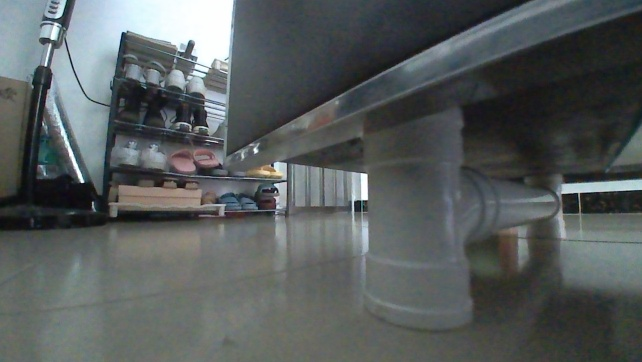chair_base: (0, 191, 108, 231)
slipper: (168, 148, 196, 175), (192, 148, 220, 170)
wire: (61, 36, 110, 108)
